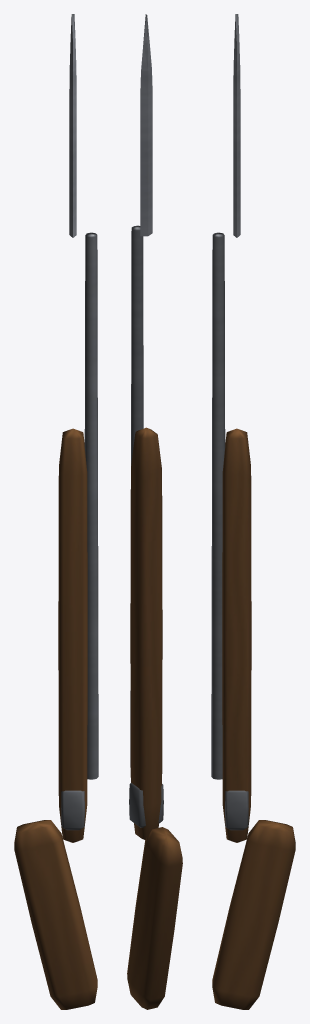
Rendered from fusil-baionnette.glb.
3 views of the same model, side by side, from view 1: azimuth 90°, elevation 25°; view 2: azimuth 210°, elevation 25°; view 3: azimuth 270°, elevation 25° (orthographic).
Visible parts, largest first — view 1: fusil-baionnette; view 2: fusil-baionnette; view 3: fusil-baionnette.
Boxes of the visible parts, x1,y1,x2,y2 form: fusil-baionnette: (14, 14, 98, 1009); fusil-baionnette: (127, 14, 182, 1009); fusil-baionnette: (211, 14, 295, 1009).
Bounding box in the file's own units: 0.0488 × 1.8 × 0.1383.
1 material, 1 textured.
